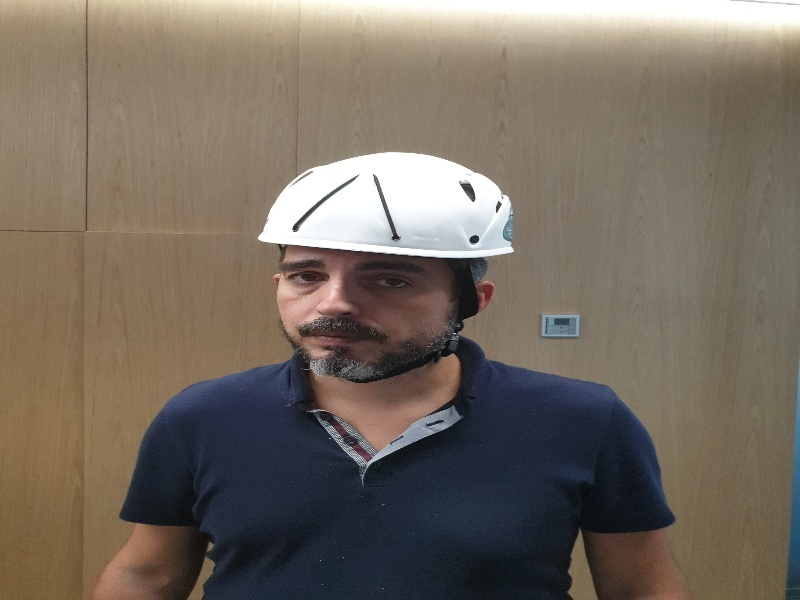Baret: (256, 152, 521, 259)
